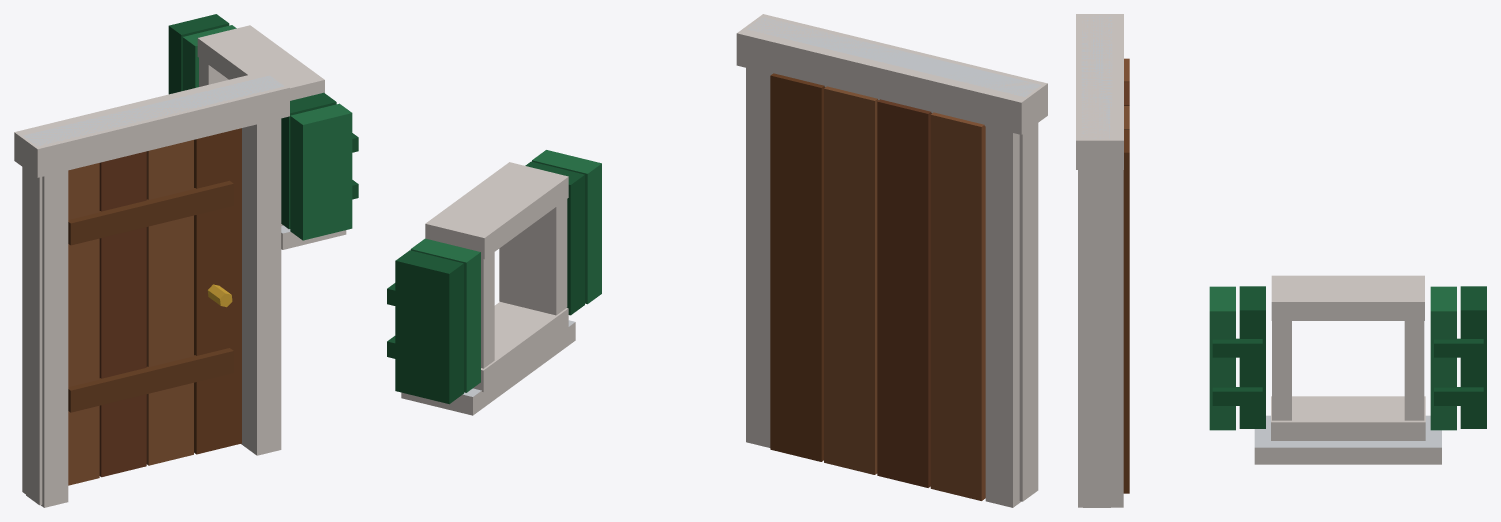
The model's file is Shed_Door.glb.
The picture shows the model from 3 angles, left to right: view 1: azimuth 30°, elevation 25°; view 2: azimuth 150°, elevation 25°; view 3: azimuth 270°, elevation 25°; orthographic projection. The views are drawn at different scales.
Visible parts, largest first — view 1: Shed_Door; view 2: Shed_Door; view 3: Shed_Door.
Part boxes in pixels (x1=…): Shed_Door: x1=14, y1=14, x2=358, y2=507; Shed_Door: x1=387, y1=14, x2=1047, y2=507; Shed_Door: x1=1076, y1=14, x2=1486, y2=507.
Bounding box in the file's own units: 7.52 × 6.57 × 6.58.
